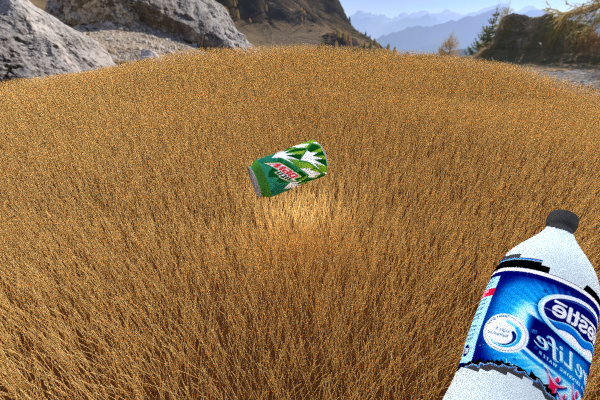Plastic Bottle: (417, 209, 600, 400), (247, 139, 328, 197), (326, 94, 366, 127)
